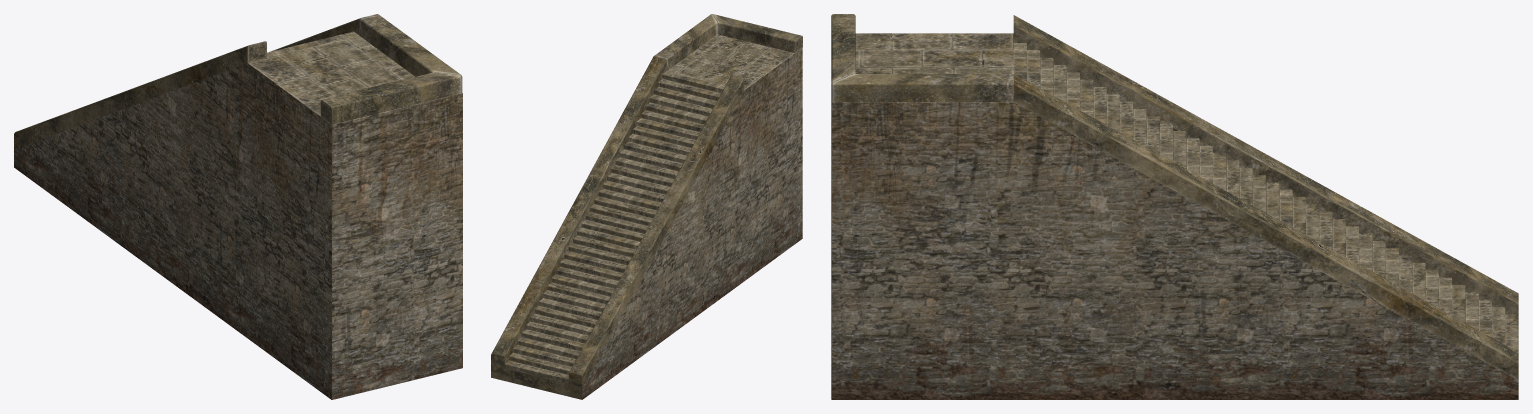
The model's file is modular_fort_01_wall_stairs_straight_01.gltf.
The picture shows the model from 3 angles, left to right: view 1: azimuth 30°, elevation 25°; view 2: azimuth 150°, elevation 25°; view 3: azimuth 270°, elevation 25°; orthographic projection. The views are drawn at different scales.
Visible parts, largest first — view 1: modular_fort_01_wall_stairs_straight_01__x; view 2: modular_fort_01_wall_stairs_straight_01__x; view 3: modular_fort_01_wall_stairs_straight_01__x.
Part boxes in pixels (bbox=[...]): modular_fort_01_wall_stairs_straight_01__x: bbox=[14, 14, 462, 399]; modular_fort_01_wall_stairs_straight_01__x: bbox=[491, 14, 802, 399]; modular_fort_01_wall_stairs_straight_01__x: bbox=[831, 14, 1518, 399].
Bounding box in the file's own units: 3.54 × 7.53 × 14.82.
2 materials, 2 textured.
